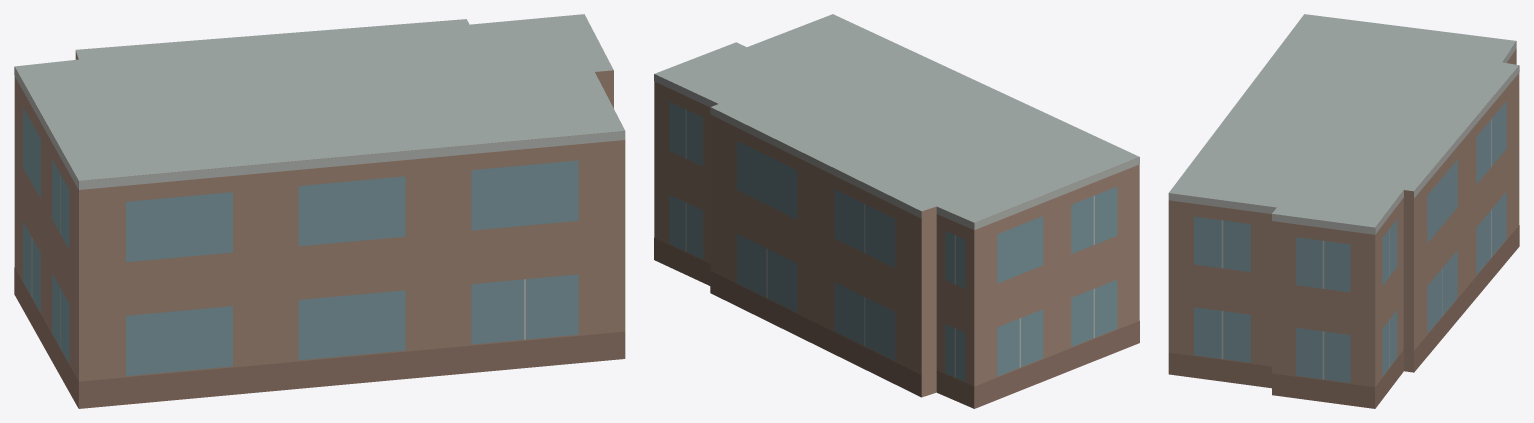
File: survey-upis-32807386.glb
The picture shows the model from 3 angles, left to right: view 1: azimuth 30°, elevation 25°; view 2: azimuth 150°, elevation 25°; view 3: azimuth 270°, elevation 25°; orthographic projection. The views are drawn at different scales.
Parts seen in each view (by area): view 1: survey-upis-32807386.tmp; view 2: survey-upis-32807386.tmp; view 3: survey-upis-32807386.tmp.
Part boxes in pixels (left/top/right/bottom): survey-upis-32807386.tmp: left=14, top=14, right=625, bottom=408; survey-upis-32807386.tmp: left=654, top=14, right=1139, bottom=408; survey-upis-32807386.tmp: left=1168, top=14, right=1519, bottom=408.
Bounding box in the file's own units: 15.42 × 6.1 × 10.71.
